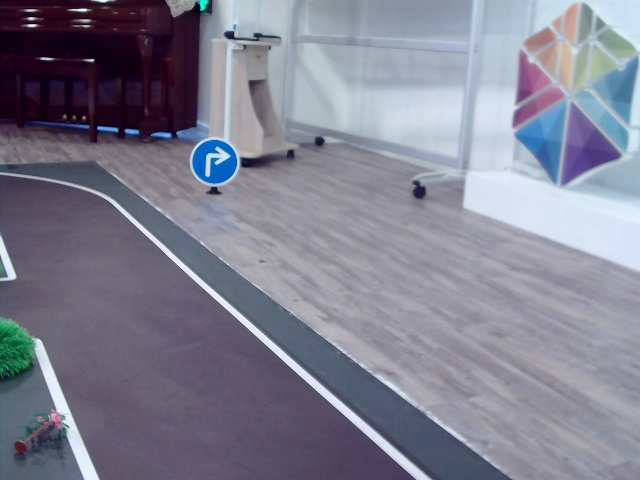turn_right: (198, 144, 231, 177)
